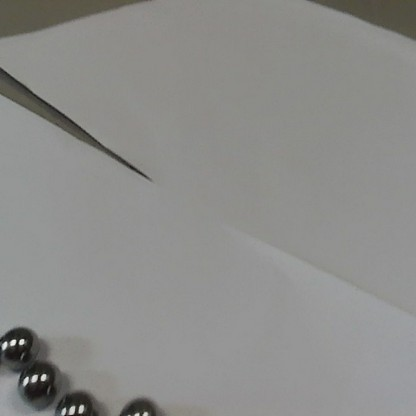ironball: (12, 363, 64, 407), (1, 323, 35, 370), (51, 387, 101, 414), (115, 392, 161, 414)
